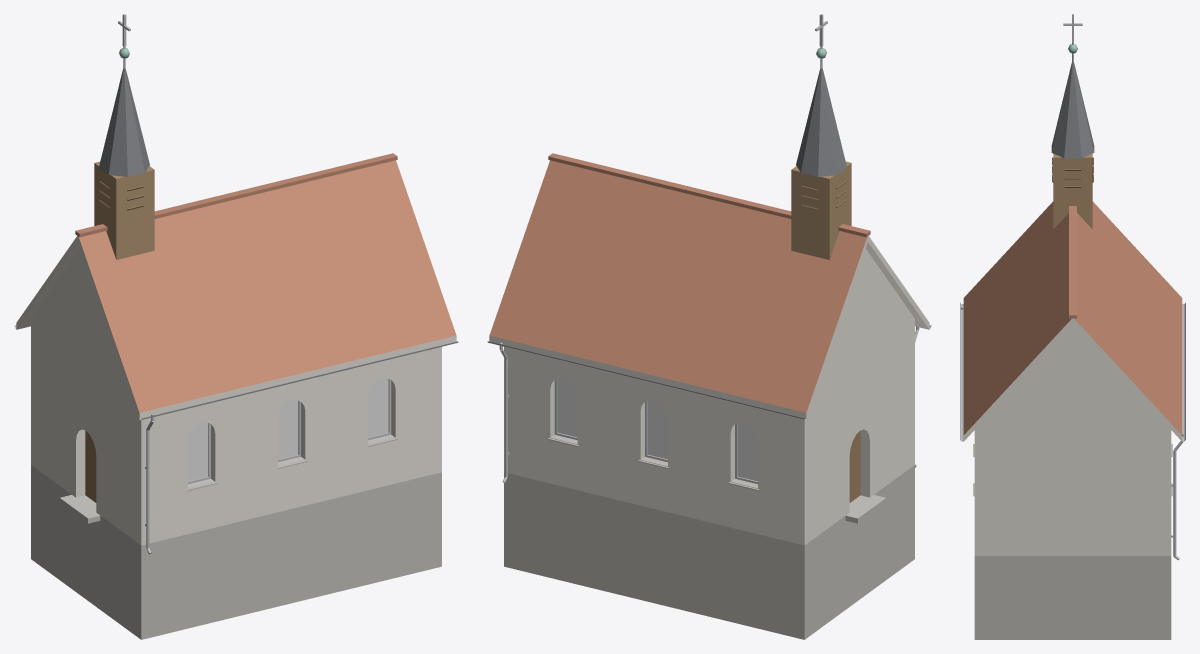
The model's file is chapel_m.glb.
The picture shows the model from 3 angles, left to right: view 1: azimuth 30°, elevation 25°; view 2: azimuth 150°, elevation 25°; view 3: azimuth 270°, elevation 25°; orthographic projection. The views are drawn at different scales.
Parts seen in each view (by area): view 1: chapel_m; view 2: chapel_m; view 3: chapel_m.
Boxes of the visible parts, x1,y1,x2,y2 form: chapel_m: [14, 14, 458, 639]; chapel_m: [487, 14, 931, 639]; chapel_m: [960, 14, 1185, 639].
Size of the model in its own units: 11.77 by 20.12 by 8.05.
